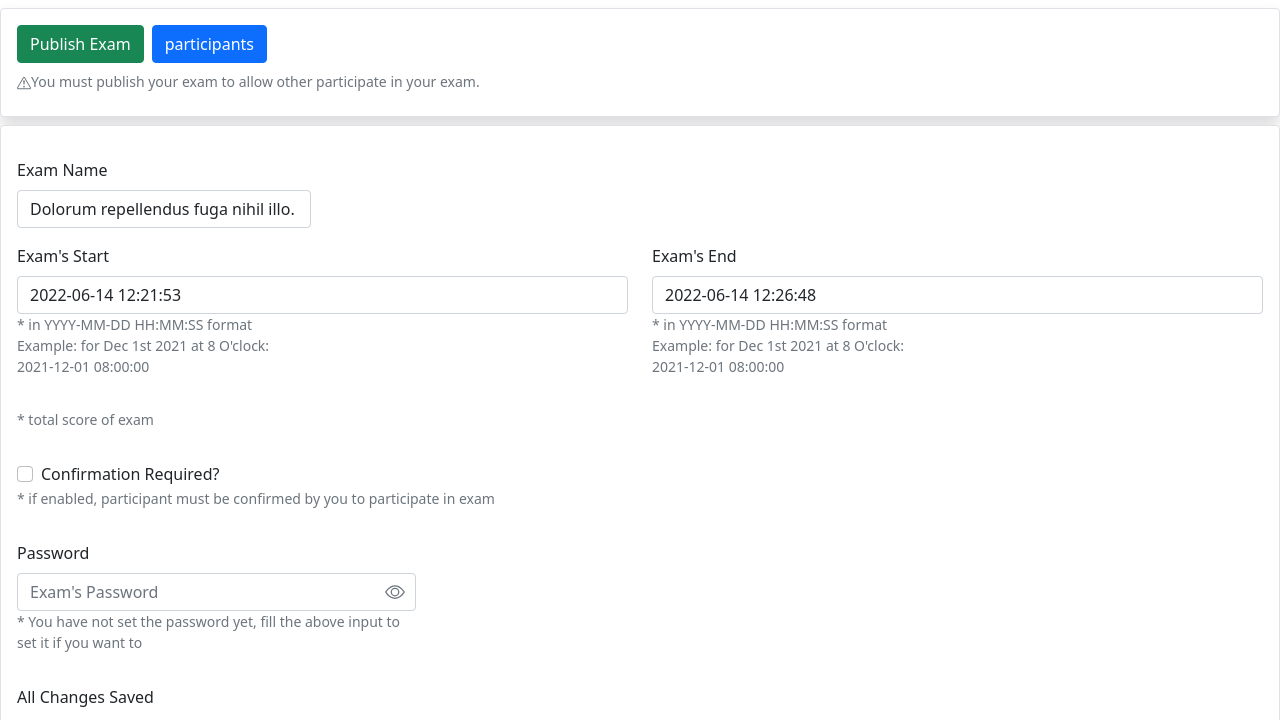
Test case: user can publish his exam and unpublish again
// find and click publish button
Click the button "Publish Exam" at (80, 44), box [17,25,144,63]
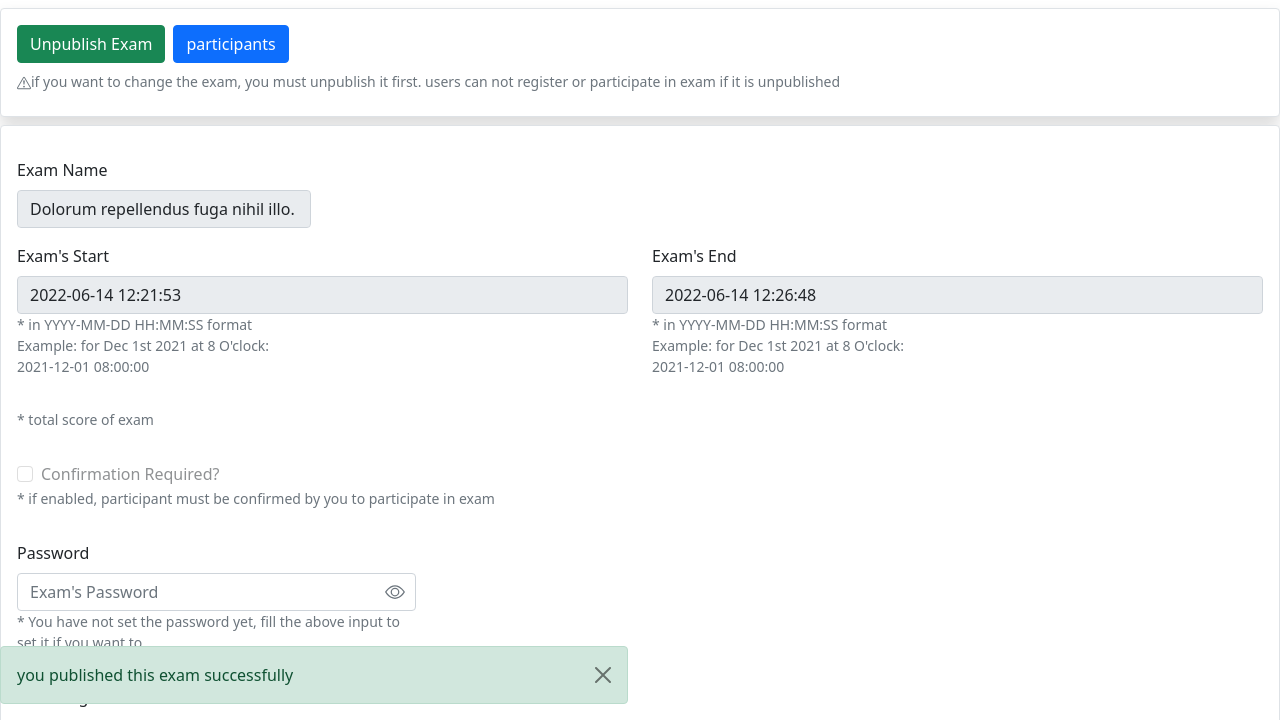
Result: the text "you published this exam successfully" is shown at [0,646,628,704]
Click the button "Unpublish Exam" at (91, 44), box [17,25,165,63]
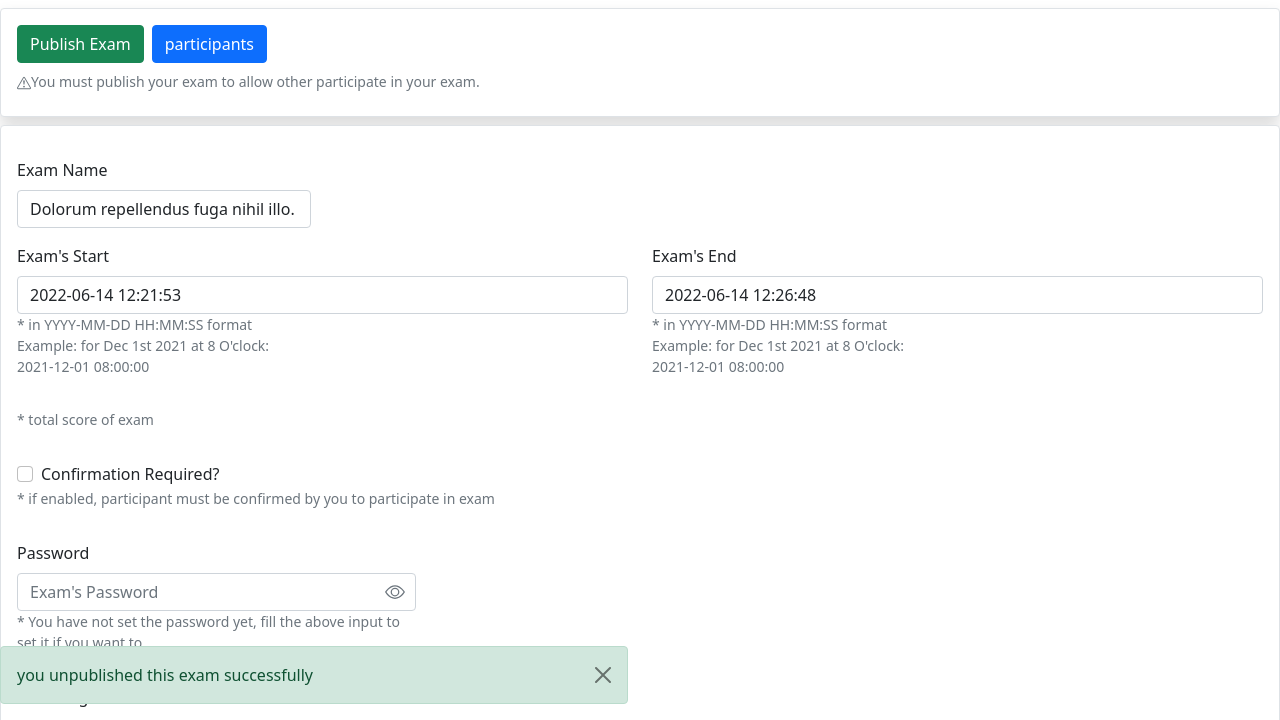
Result: the text "you unpublished this exam successfully" is shown at [0,646,628,704]
